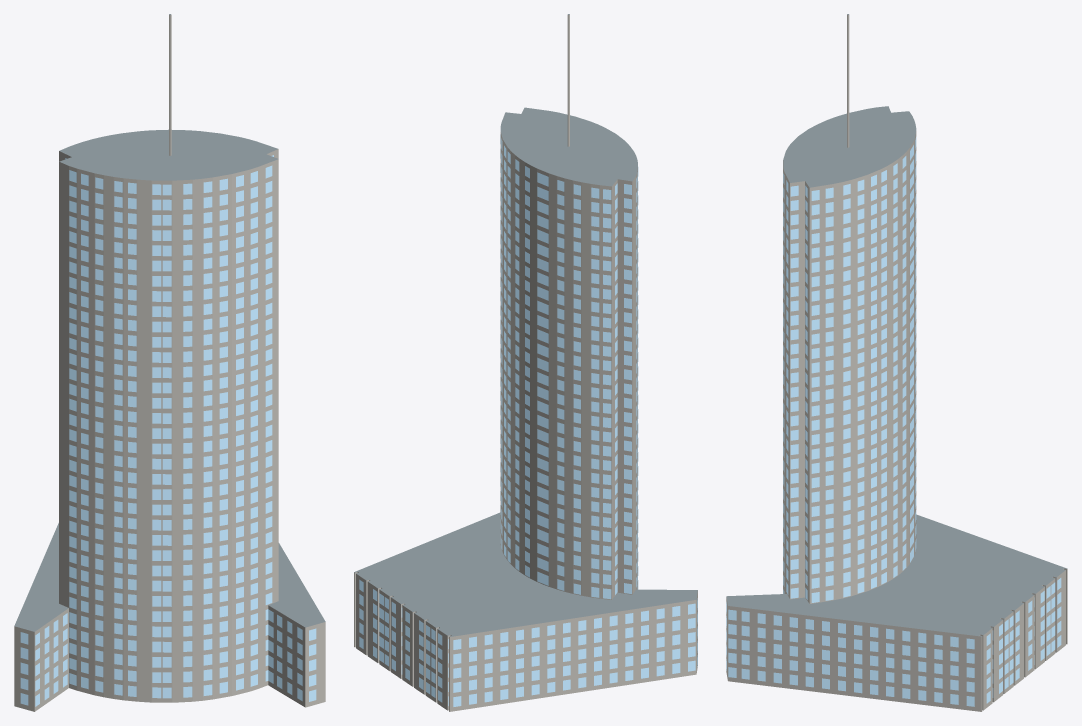
The picture shows the model from 3 angles, left to right: view 1: azimuth 30°, elevation 25°; view 2: azimuth 150°, elevation 25°; view 3: azimuth 270°, elevation 25°; orthographic projection. The views are drawn at different scales.
Parts seen in each view (by area): view 1: stone, window, roof; view 2: stone, window, roof; view 3: stone, window, roof.
Boxes of the visible parts, x1,y1,x2,y2 form: stone: (14, 14, 325, 711); window: (20, 155, 316, 706); roof: (14, 14, 325, 631); stone: (354, 14, 697, 711); window: (359, 134, 697, 706); roof: (354, 14, 697, 636); stone: (726, 15, 1067, 711); window: (726, 137, 1061, 706); roof: (726, 14, 1067, 636).
Size of the model in its own units: 83.73 by 174 by 86.18.
